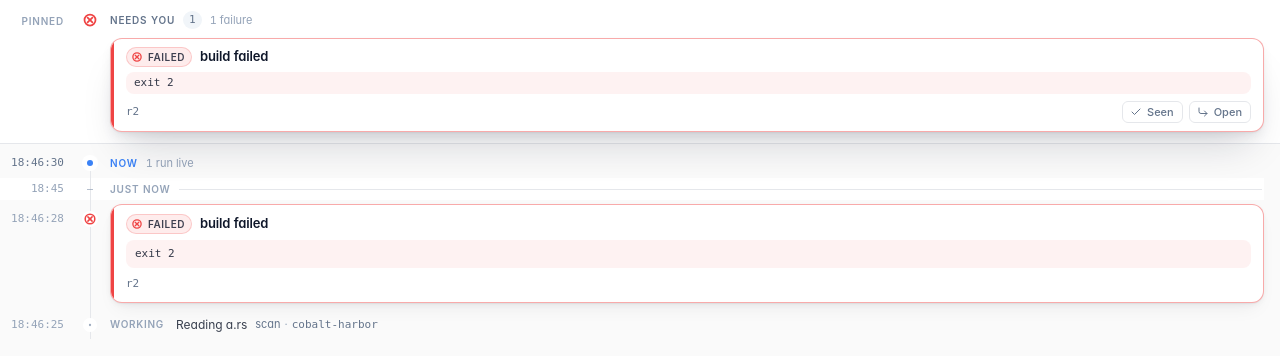
Scenario: EventRail — the Needs-you deck › Seen lets a card go and leaves a quiet tag on its row
Click the button with aria-label "Mark build failed seen". click: (1152, 112)
box: [1122,101,1183,123]
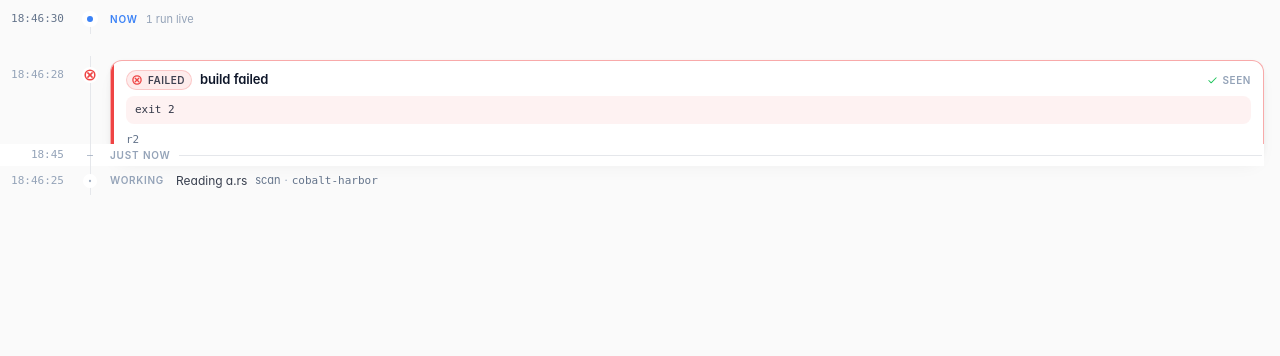
expect the text "seen" is shown: met, box [1207,72,1251,88]
expect the element with test id "needs-you-deck" is gone: met
